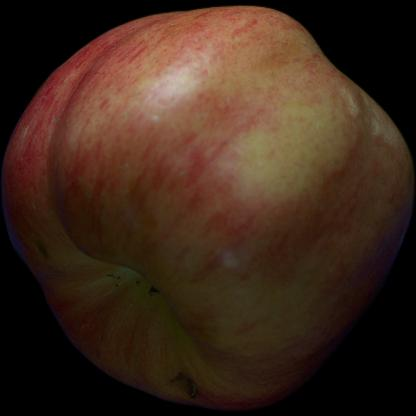defect: (124, 353, 266, 403)
